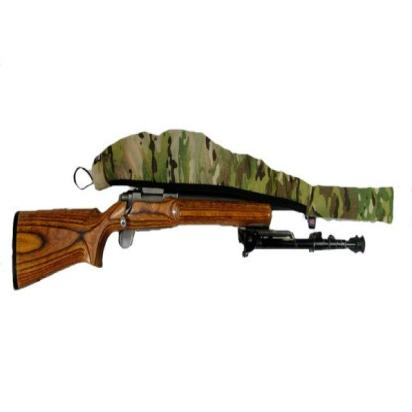Gun: (11, 186, 373, 299)
